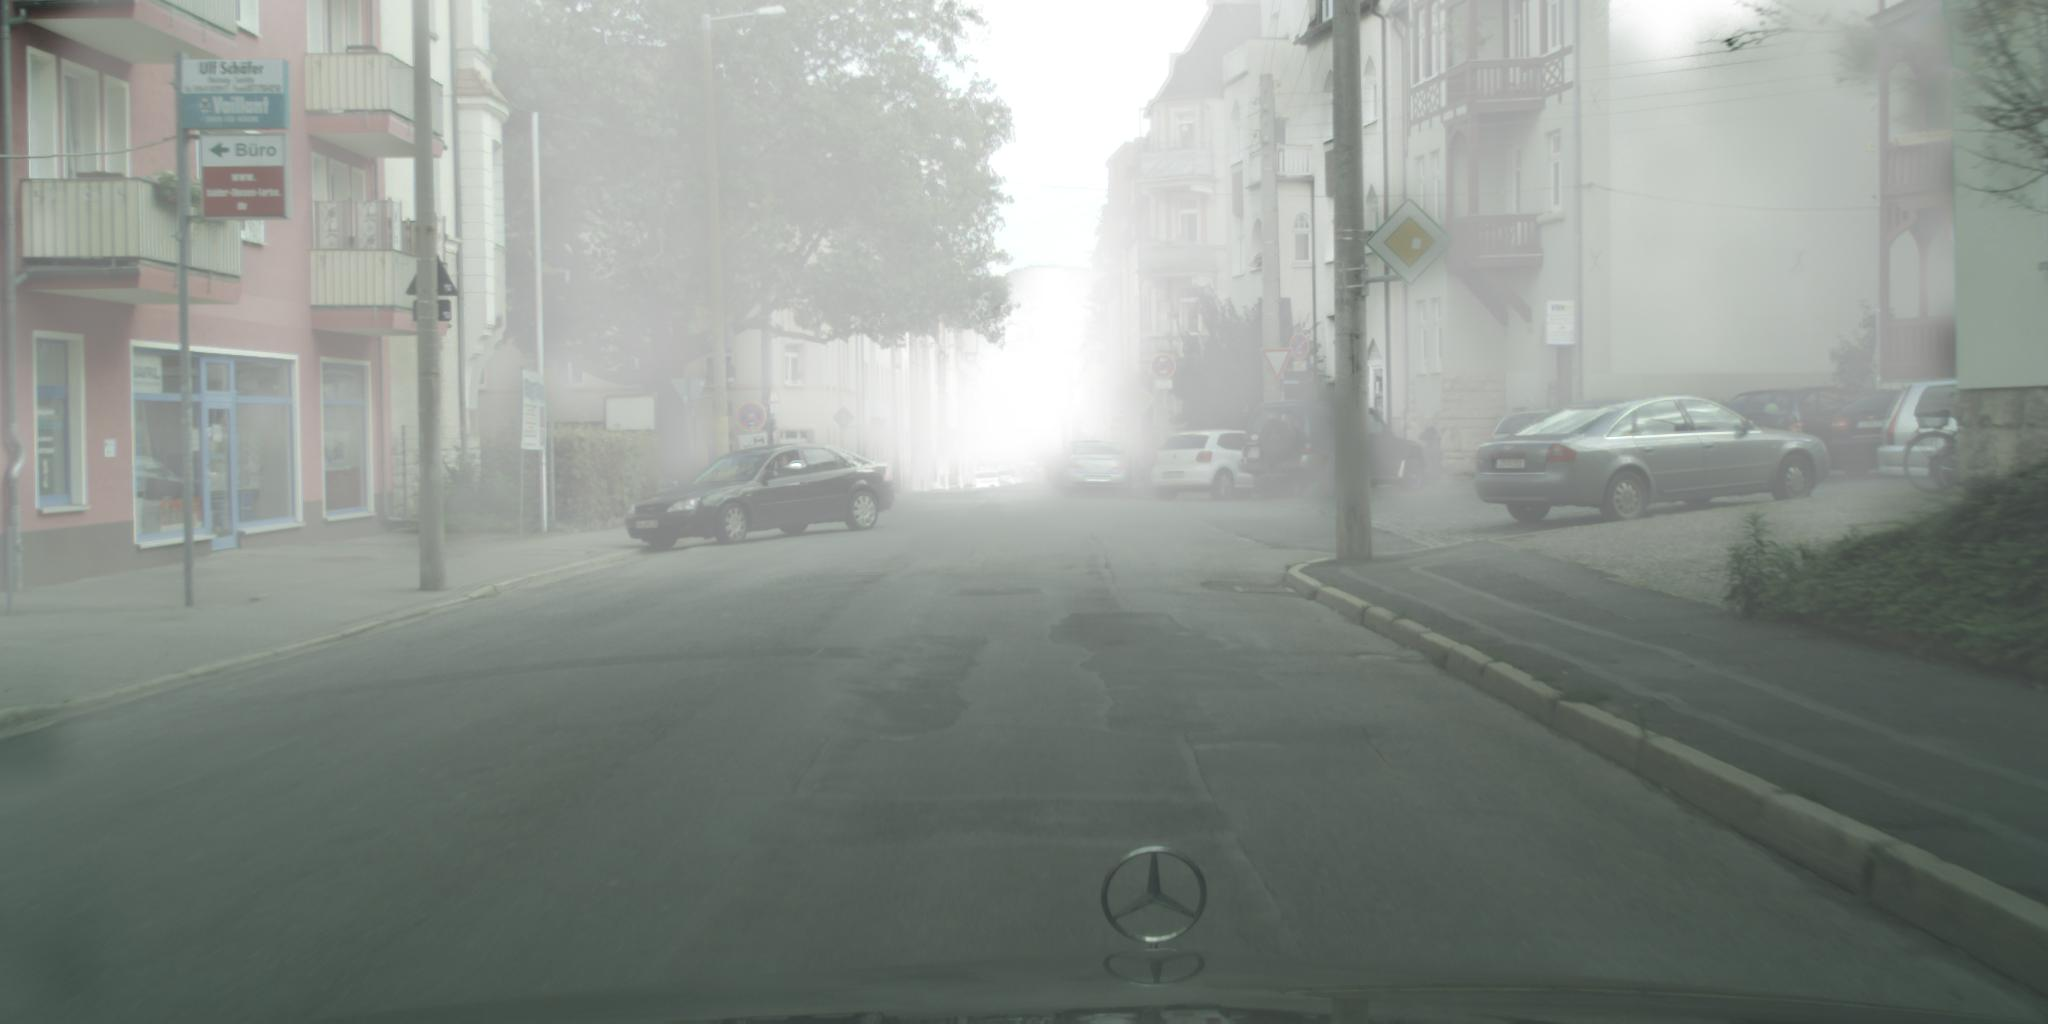bicycle: (1900, 426, 1959, 495)
car: (1475, 394, 1834, 528), (624, 445, 899, 552), (1237, 400, 1429, 502), (1877, 377, 1962, 479), (1148, 430, 1262, 504), (1721, 389, 1846, 455), (1827, 388, 1910, 482), (1059, 441, 1136, 499), (1486, 409, 1565, 443), (1044, 443, 1072, 492), (976, 466, 1000, 491), (995, 464, 1021, 486)
truck: (976, 466, 1000, 491), (995, 464, 1021, 486)
